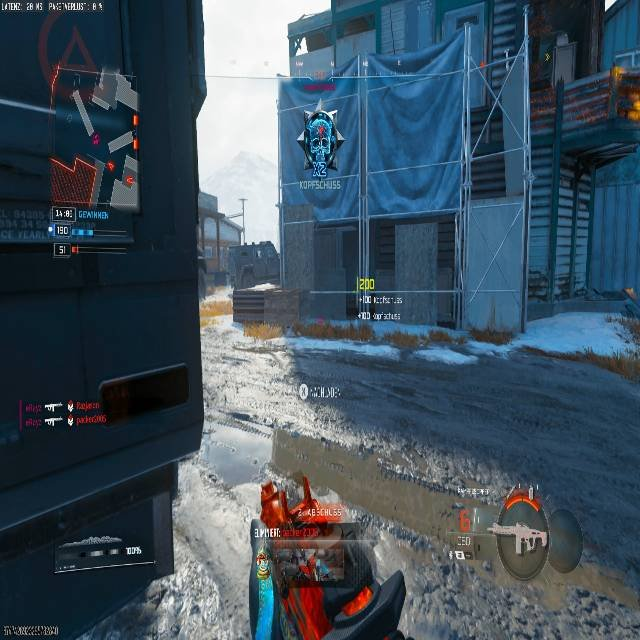head: (259, 475, 312, 528)
player: (251, 473, 420, 639), (298, 106, 346, 181)
